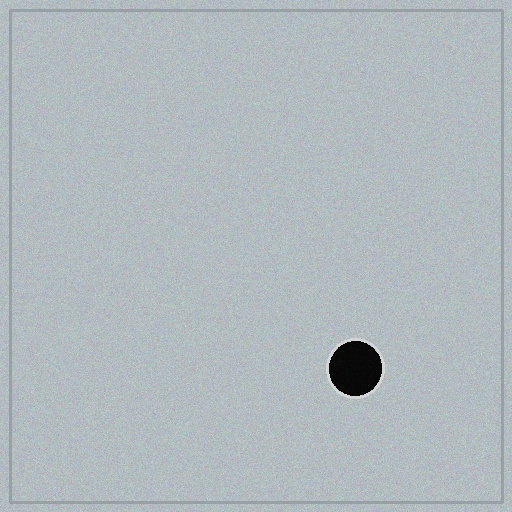hole: (324, 337, 386, 399)
